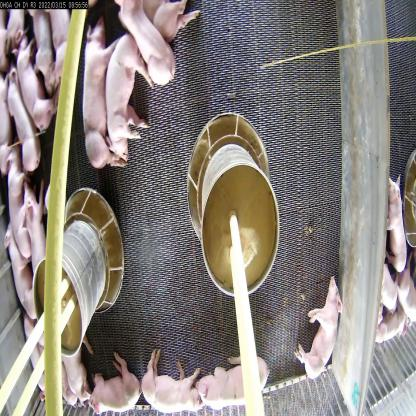Pig: (76, 11, 113, 183), (116, 0, 170, 94), (103, 33, 145, 145), (294, 280, 340, 379), (138, 353, 210, 416), (7, 73, 44, 190), (200, 355, 271, 407), (1, 151, 36, 253), (40, 0, 76, 93), (15, 50, 56, 129), (4, 232, 32, 344), (20, 186, 46, 288), (93, 366, 144, 416), (24, 10, 54, 86), (60, 339, 84, 411)
